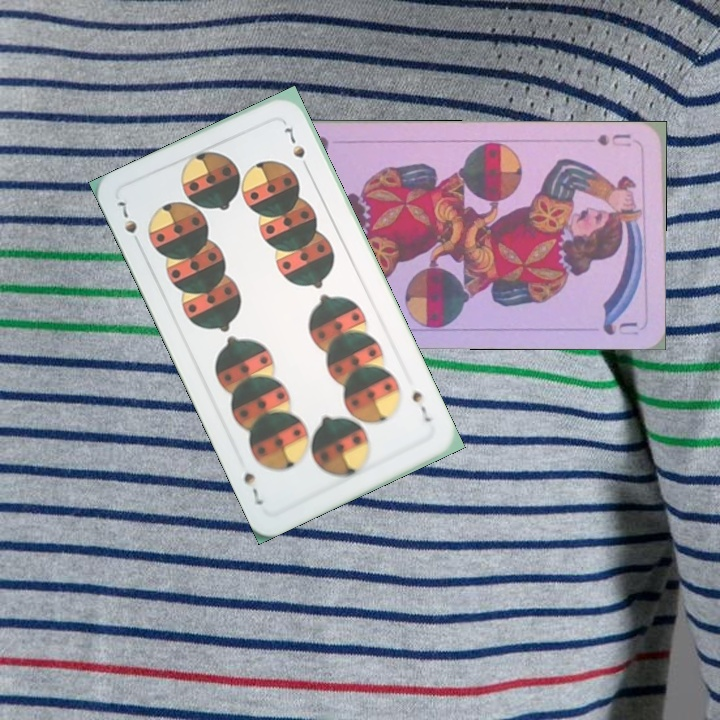S7: (112, 197, 145, 251), (407, 385, 434, 425)
SU: (593, 130, 634, 149)
